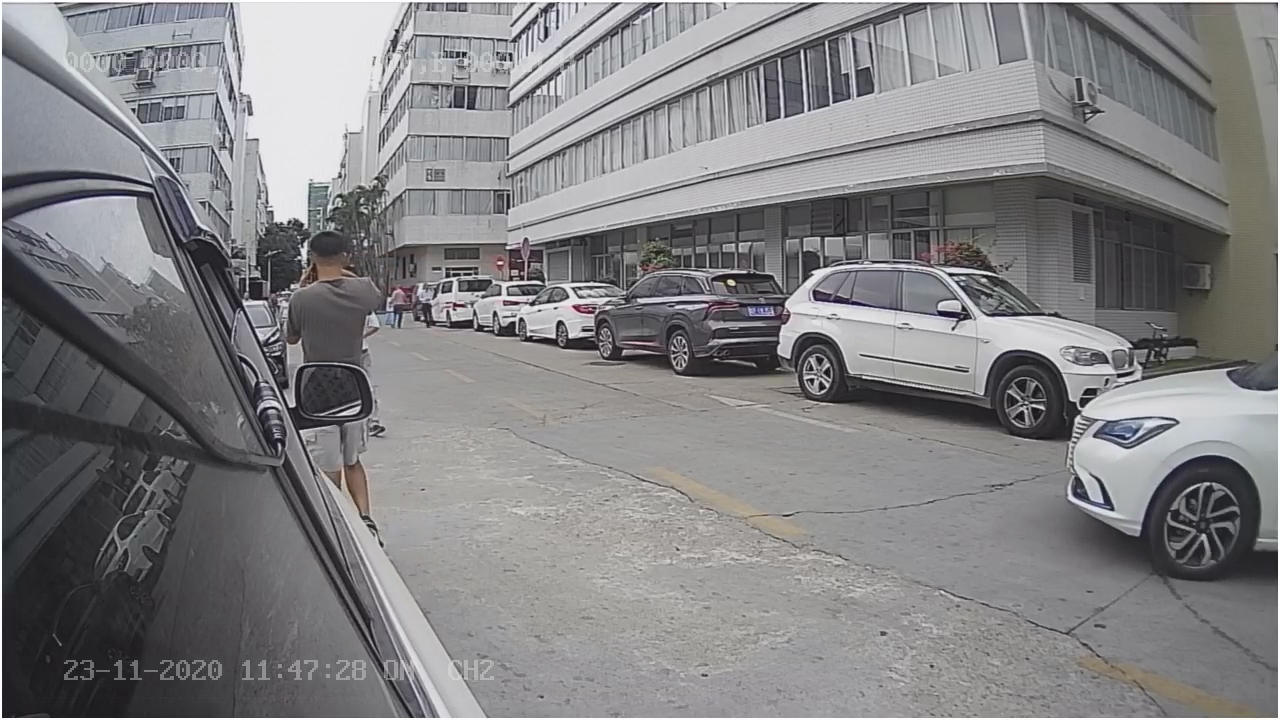person: (275, 214, 390, 354)
